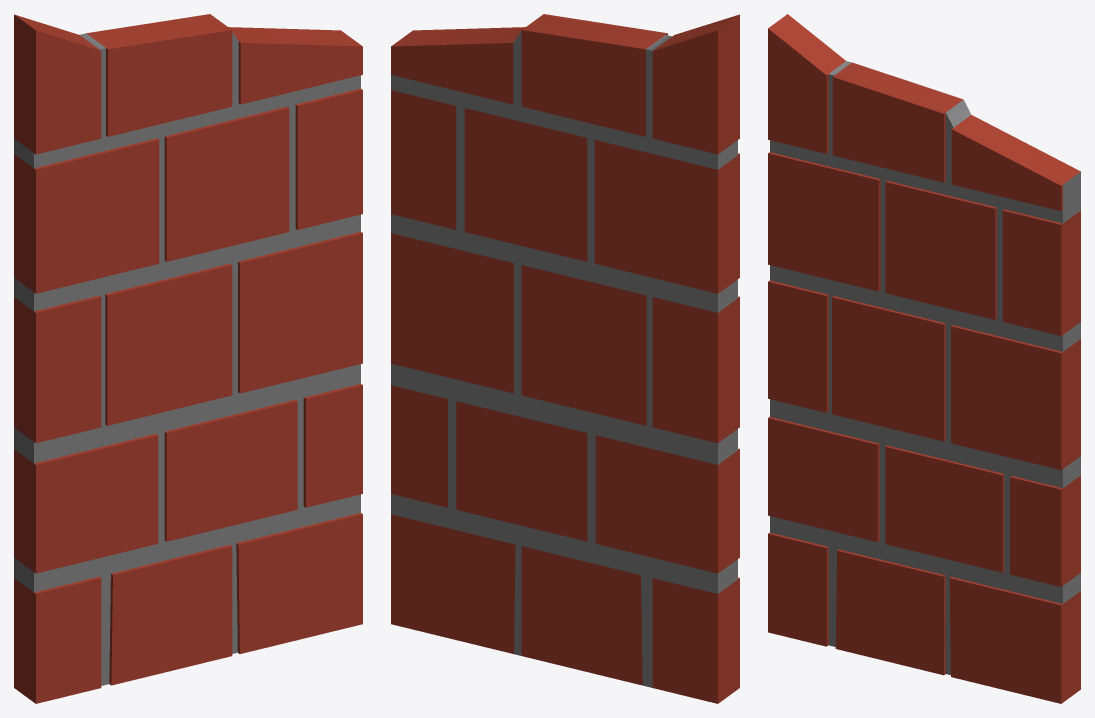
The model's file is Pared3.fbx.
3 views of the same model, side by side, from view 1: azimuth 30°, elevation 25°; view 2: azimuth 150°, elevation 25°; view 3: azimuth 330°, elevation 25° (orthographic). The views are drawn at different scales.
Visible parts, largest first — view 1: Pared2; view 2: Pared2; view 3: Pared2.
Part boxes in pixels (x1,y1,x2,y2): Pared2: [14, 14, 362, 703]; Pared2: [391, 14, 739, 703]; Pared2: [768, 14, 1080, 703].
Bounding box in the file's own units: 4.02 × 7.9 × 0.4667.
